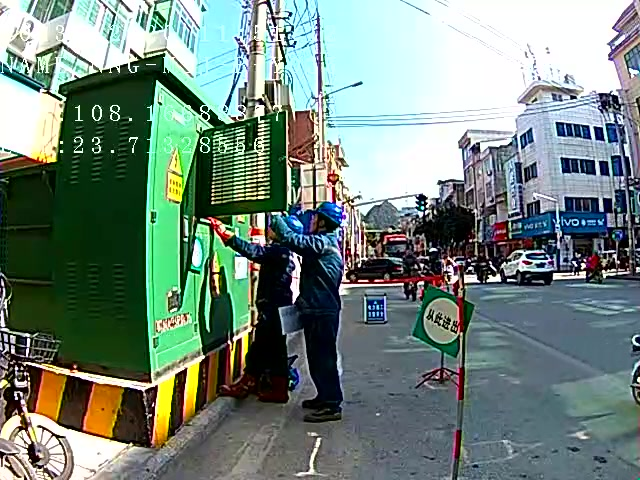downsuit: (299, 318, 343, 403), (242, 312, 294, 372)
inear: (310, 212, 330, 234)
intosign: (410, 283, 469, 355)
longglove: (205, 214, 235, 247)
person: (273, 202, 352, 425), (230, 200, 302, 414)
shoe: (220, 374, 260, 402), (257, 372, 289, 406)
upsuit: (276, 218, 344, 309), (227, 235, 296, 311)
